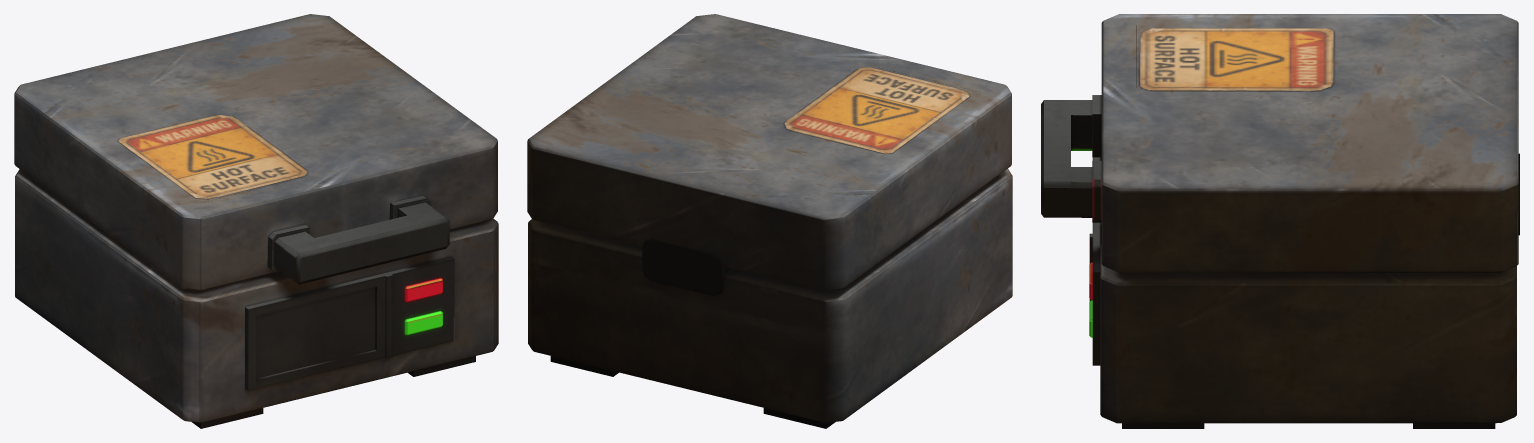
The model's file is grill_otdelno.fbx.
3 renders of one model, left to right at view 1: azimuth 30°, elevation 25°; view 2: azimuth 150°, elevation 25°; view 3: azimuth 270°, elevation 25°, orthographic. The views are drawn at different scales.
Visible parts, largest first — view 1: Cube.028, Cube.022; view 2: Cube.028, Cube.022; view 3: Cube.028, Cube.022.
Part boxes in pixels (x1,y1,x2,y2): Cube.028: [14, 14, 497, 290]; Cube.022: [15, 169, 498, 428]; Cube.028: [527, 14, 1011, 291]; Cube.022: [528, 168, 1012, 428]; Cube.028: [1041, 14, 1518, 272]; Cube.022: [1089, 153, 1519, 428].
Size of the model in its own units: 99.21 by 65.98 by 114.
